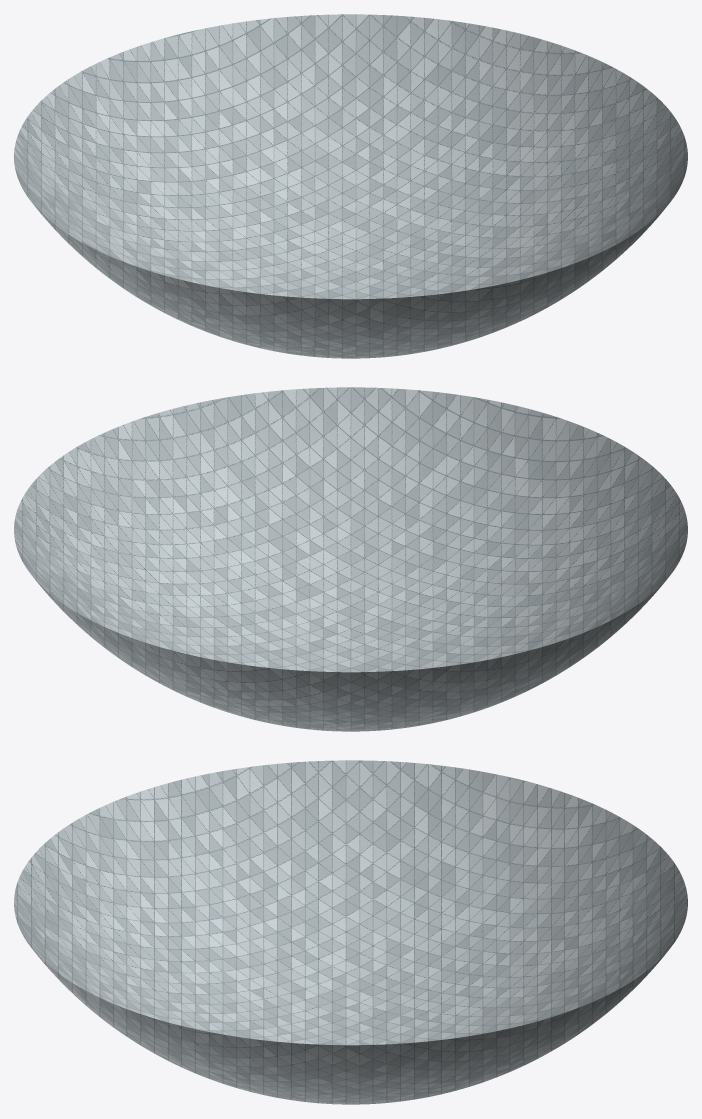
The model's file is earth3d2-fast-reflector.glb.
3 renders of one model, top to bottom at view 1: azimuth 30°, elevation 25°; view 2: azimuth 150°, elevation 25°; view 3: azimuth 270°, elevation 25°, orthographic.
Parts seen in each view (by area): view 1: Nominal spherical reflector surface; zero thickness; view 2: Nominal spherical reflector surface; zero thickness; view 3: Nominal spherical reflector surface; zero thickness.
Part boxes in pixels (x1,y1,x2,y2): Nominal spherical reflector surface; zero thickness: [14, 14, 687, 358]; Nominal spherical reflector surface; zero thickness: [14, 387, 687, 731]; Nominal spherical reflector surface; zero thickness: [14, 760, 687, 1104].
Bounding box in the file's own units: 500 × 134 × 500.
Materials: 1 (1 with a texture image).
